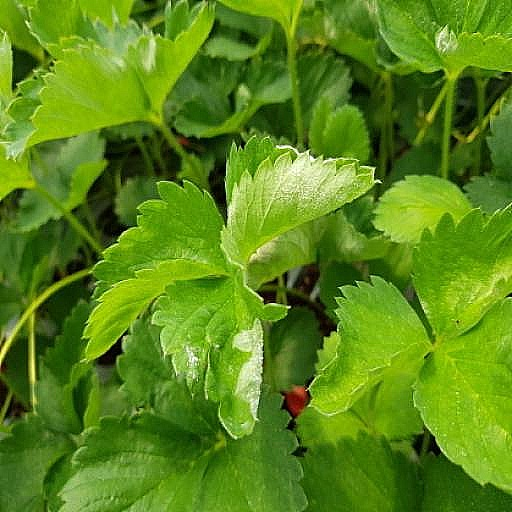Powdery Mildew Leaf: (220, 270, 362, 439), (129, 133, 293, 268)
